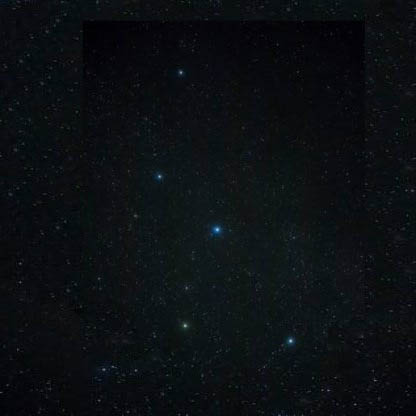Cassiopeia: (169, 273, 203, 332), (150, 160, 178, 200), (203, 214, 233, 244), (169, 62, 193, 92), (277, 327, 301, 350)
